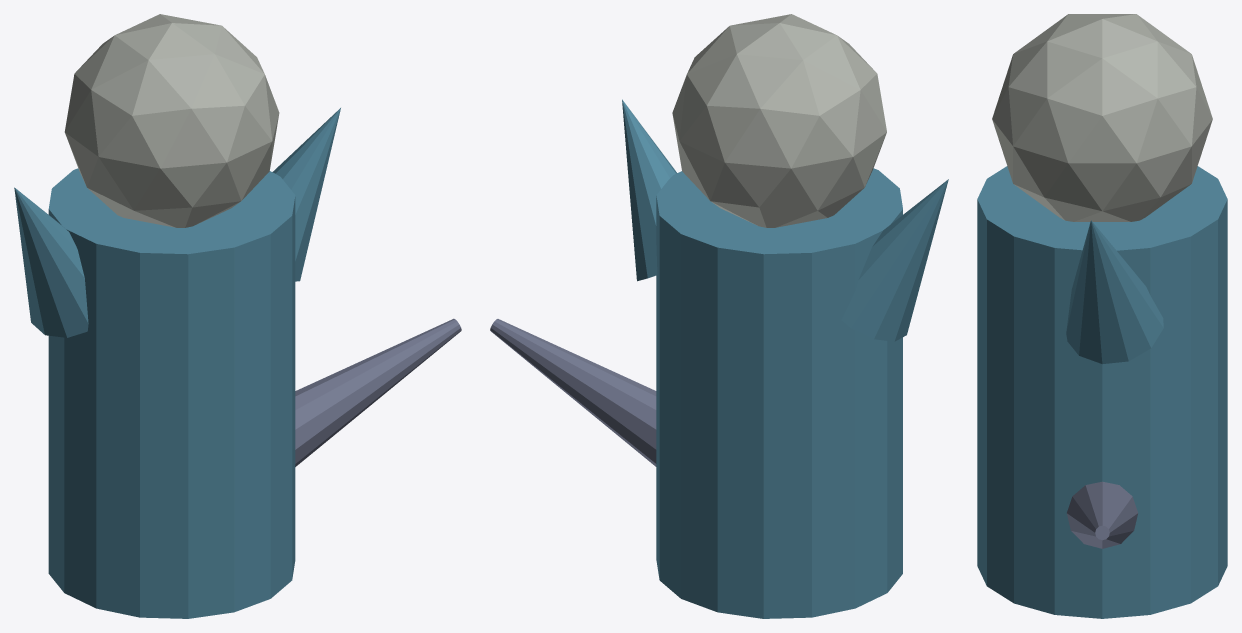
File: anchor-shard.glb
The picture shows the model from 3 angles, left to right: view 1: azimuth 30°, elevation 25°; view 2: azimuth 150°, elevation 25°; view 3: azimuth 270°, elevation 25°; orthographic projection.
Visible parts, largest first — view 1: anchor-body, anchor-head, anchor-hook-prop, anchor-shard-shoulder-0, anchor-shard-shoulder-1; view 2: anchor-body, anchor-head, anchor-shard-shoulder-0, anchor-hook-prop, anchor-shard-shoulder-1; view 3: anchor-body, anchor-head, anchor-shard-shoulder-1, anchor-hook-prop.
Part boxes in pixels (x1,y1,x2,y2): anchor-body: (48,168,295,618); anchor-head: (64,14,279,227); anchor-hook-prop: (295,318,461,466); anchor-shard-shoulder-0: (14,187,88,337); anchor-shard-shoulder-1: (272,108,340,281); anchor-body: (656,168,902,618); anchor-head: (672,14,886,227); anchor-shard-shoulder-0: (842,179,948,341); anchor-hook-prop: (490,319,656,466); anchor-shard-shoulder-1: (622,99,676,281); anchor-body: (977,166,1227,618); anchor-head: (992,14,1212,221); anchor-shard-shoulder-1: (1066,220,1163,364); anchor-hook-prop: (1066,481,1138,548).
Bounding box in the file's own units: 0.7117 × 0.82 × 0.34.
